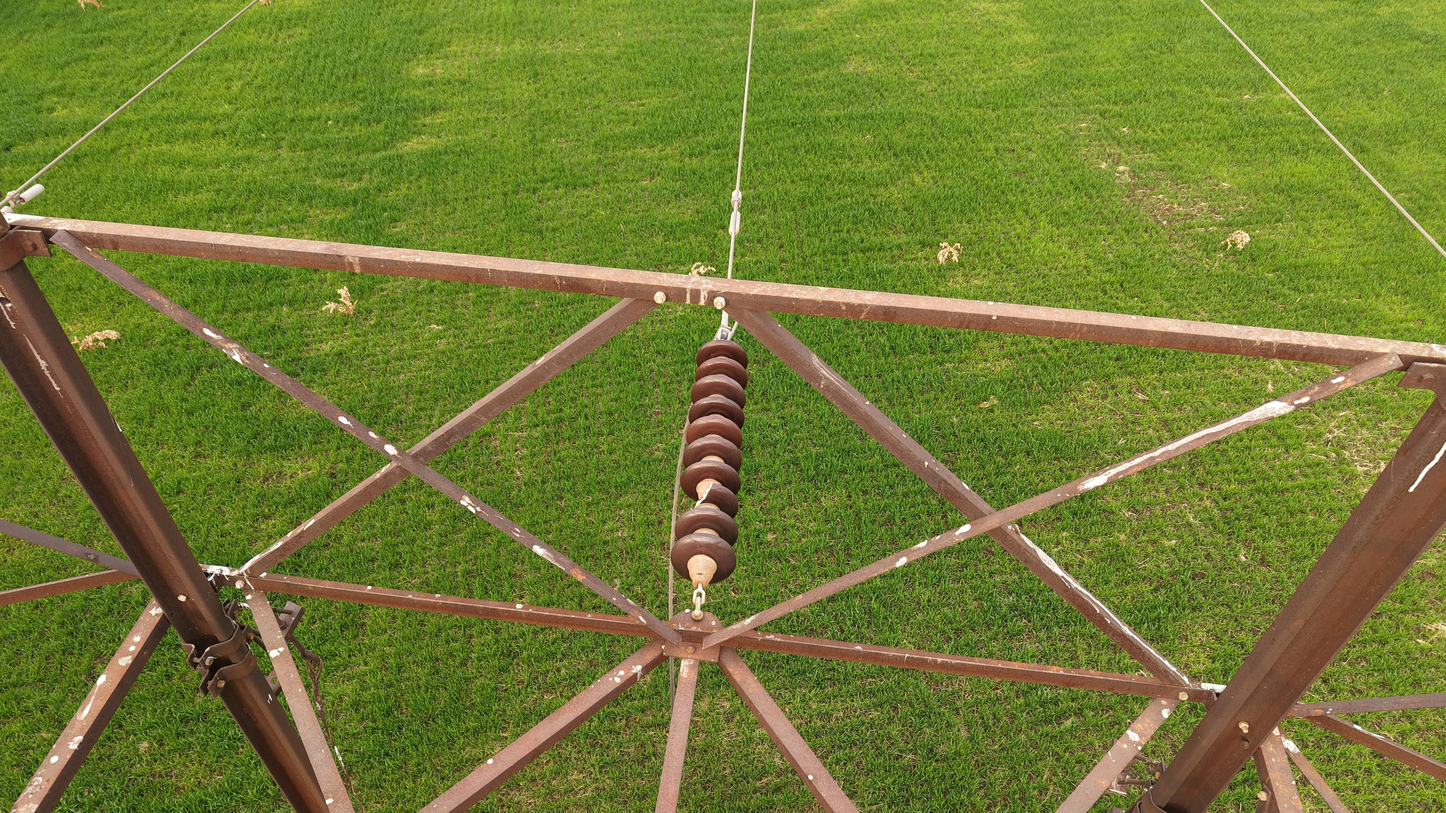broken_insulator: (679, 476, 751, 514)
